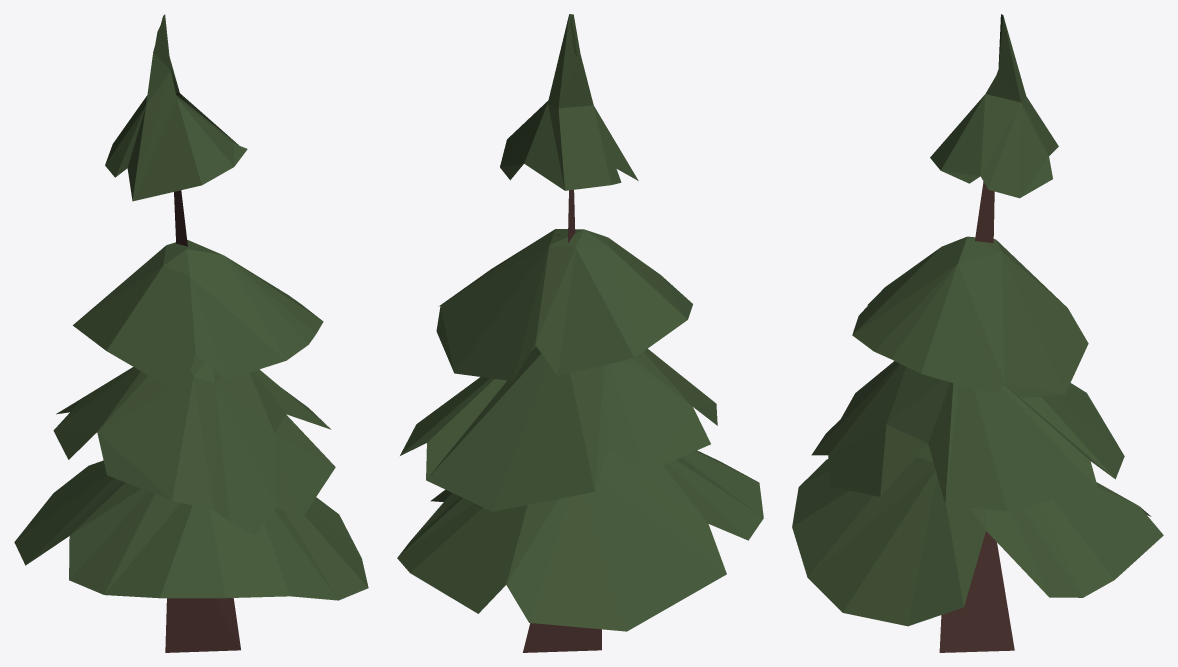
Rendered from PineTree_2_lod.glb.
The picture shows the model from 3 angles, left to right: view 1: azimuth 30°, elevation 25°; view 2: azimuth 150°, elevation 25°; view 3: azimuth 270°, elevation 25°; orthographic projection. The views are drawn at different scales.
Parts seen in each view (by area): view 1: PineTree_2; view 2: PineTree_2; view 3: PineTree_2.
Boxes of the visible parts, x1,y1,x2,y2 form: PineTree_2: [14, 14, 368, 652]; PineTree_2: [397, 14, 763, 652]; PineTree_2: [792, 14, 1163, 652].
Bounding box in the file's own units: 1.8 × 3.56 × 1.95.
